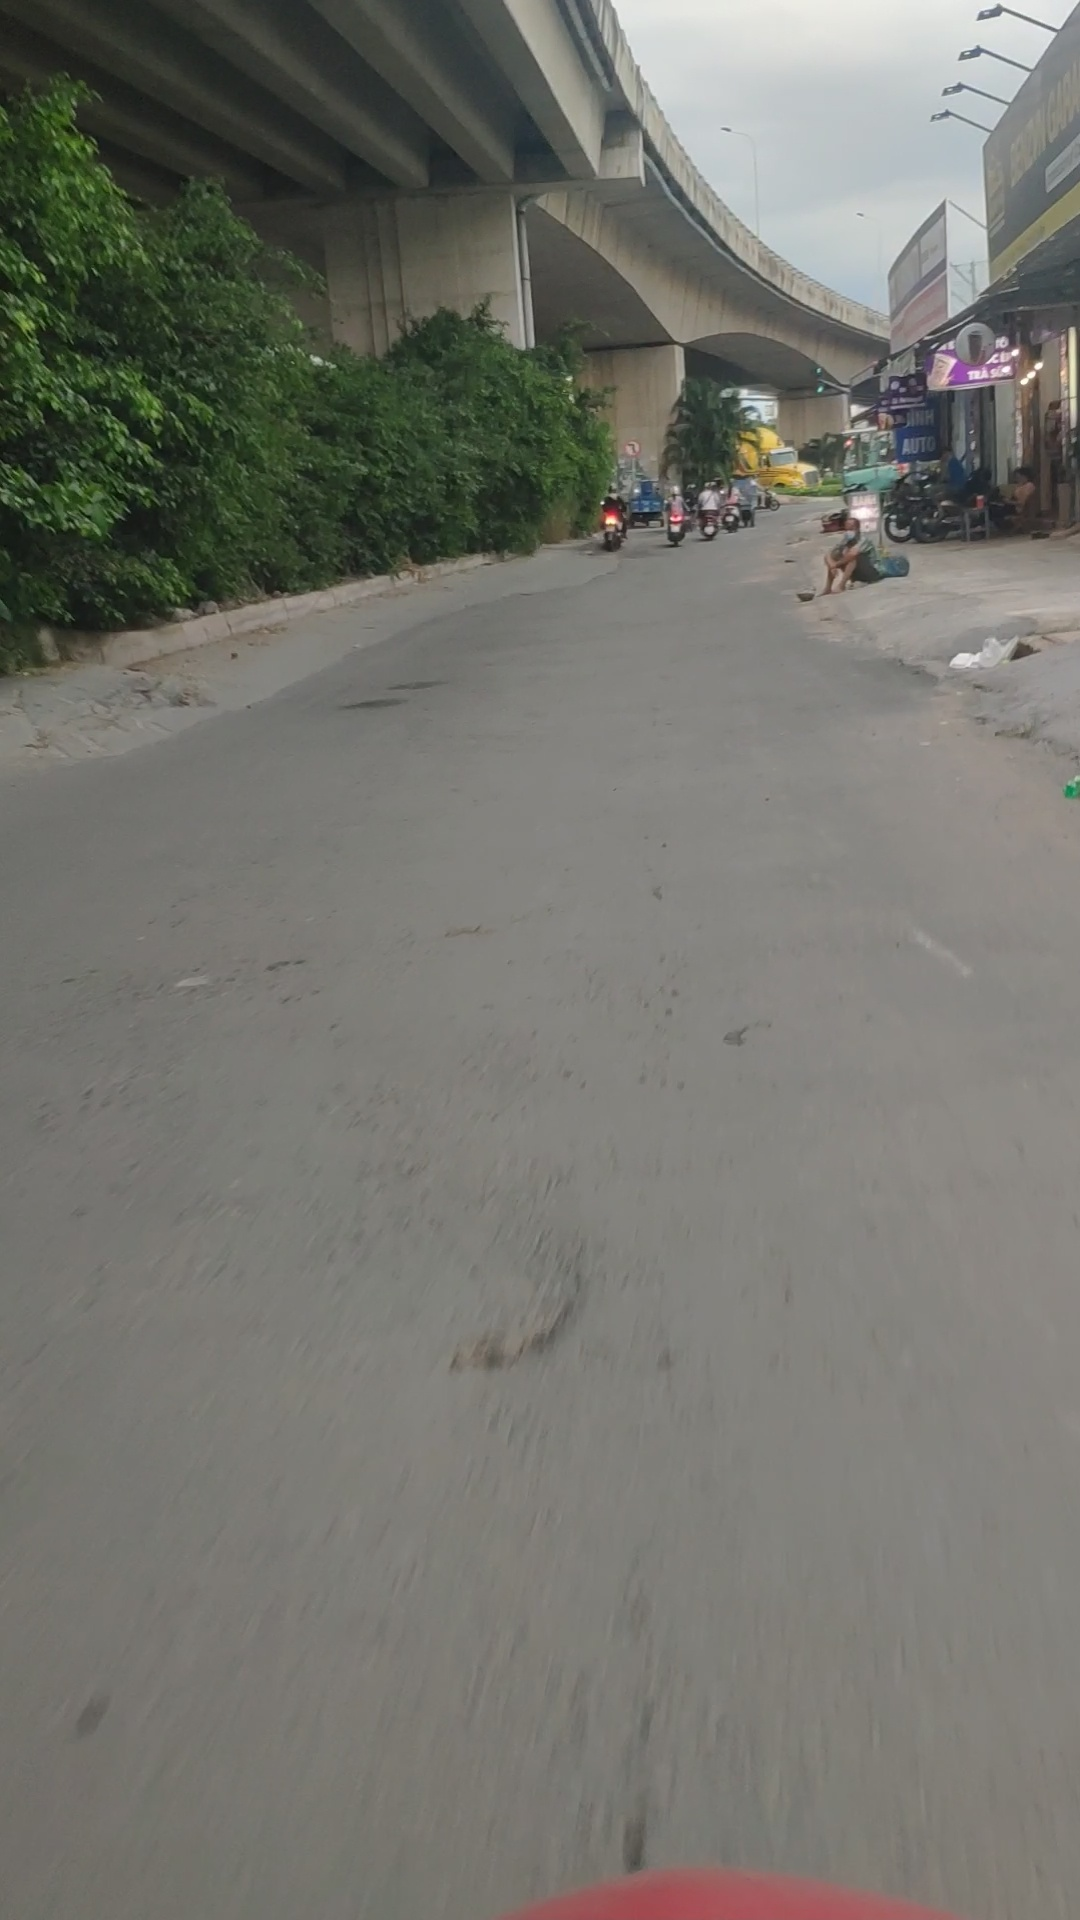hole: (429, 1224, 632, 1400)
